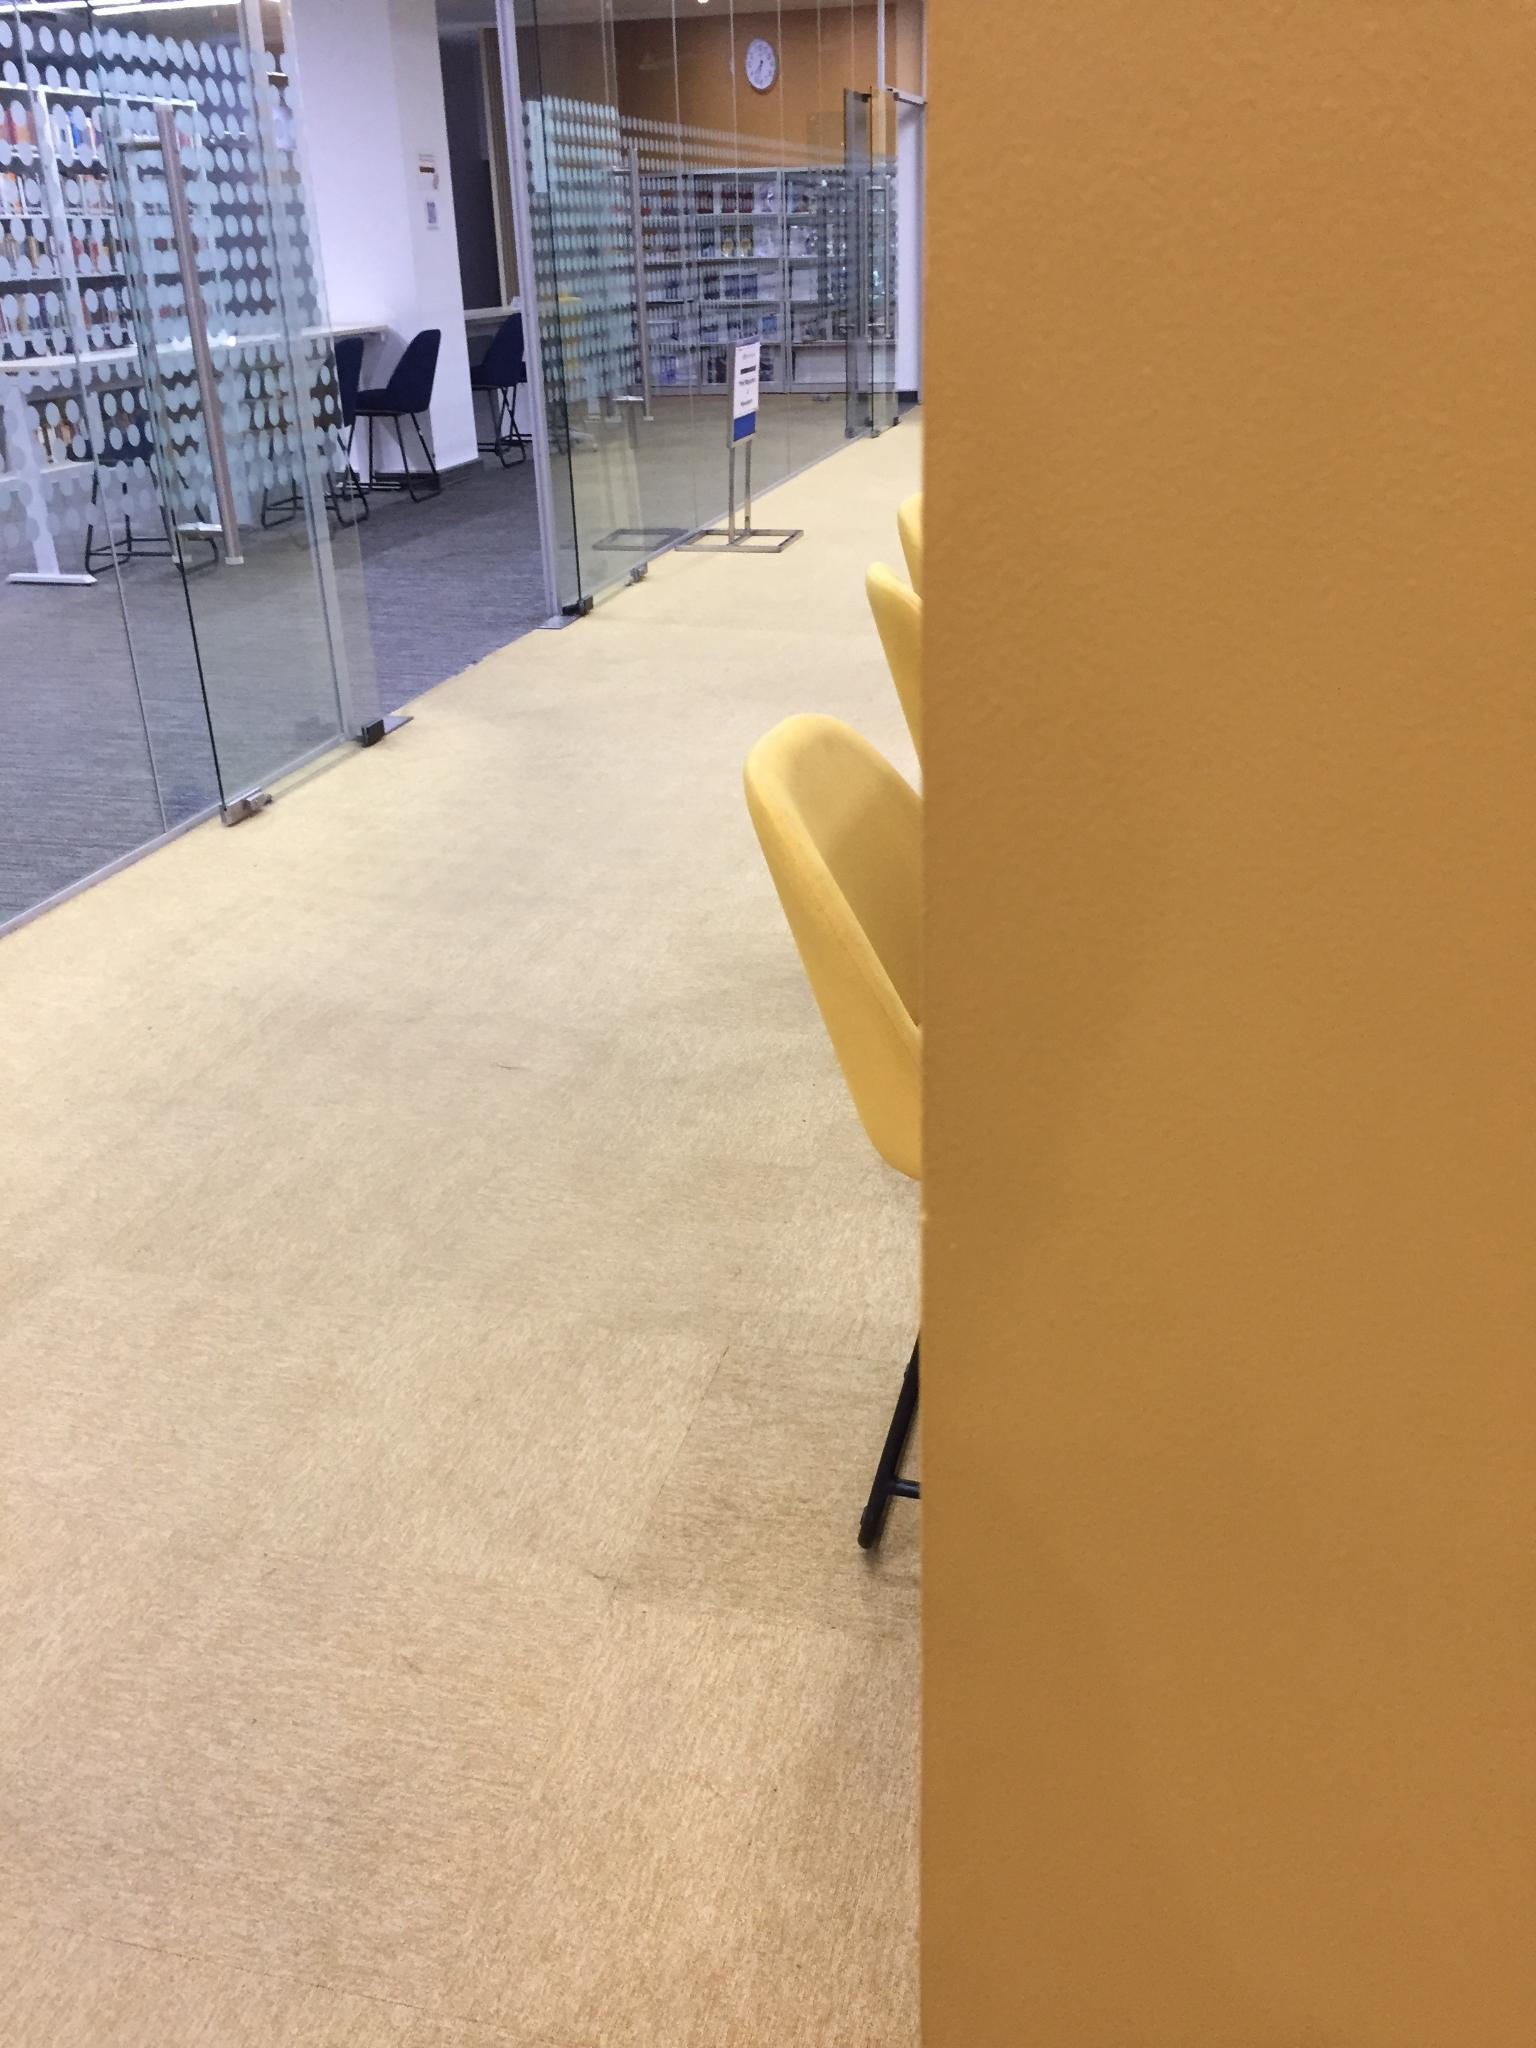chair: (729, 719, 1105, 1564), (79, 348, 229, 581), (826, 566, 1016, 737), (481, 295, 578, 481), (353, 327, 442, 503), (863, 481, 997, 571)
